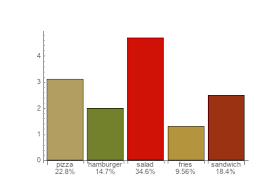Xaxis: (38, 158, 251, 182)
Yaxis: (28, 27, 47, 189)
bar: (126, 37, 166, 161), (46, 78, 85, 161), (207, 94, 246, 162), (87, 108, 124, 161), (167, 125, 205, 161)
